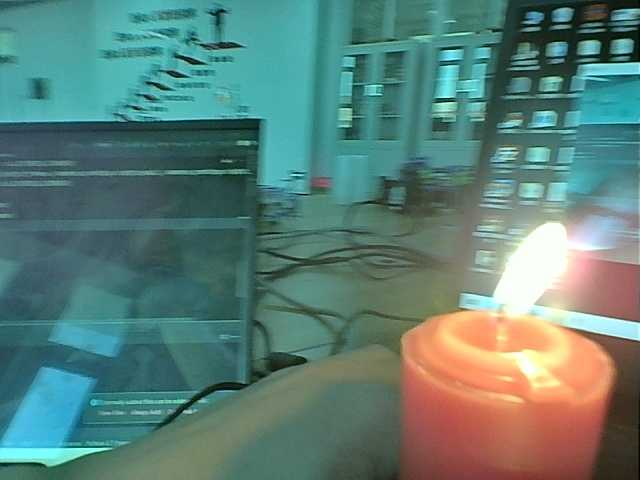candle: (393, 310, 619, 480)
fire: (482, 213, 583, 338)
